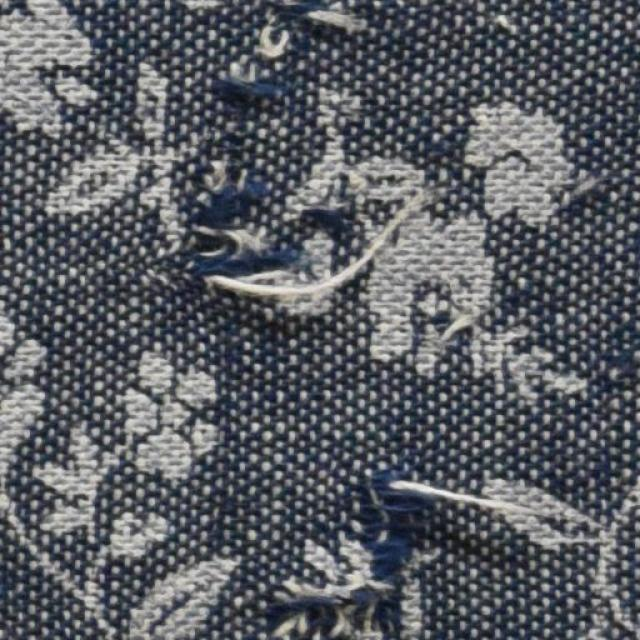Snag: (273, 466, 554, 639), (167, 151, 296, 323), (203, 204, 405, 311), (203, 0, 363, 120)
